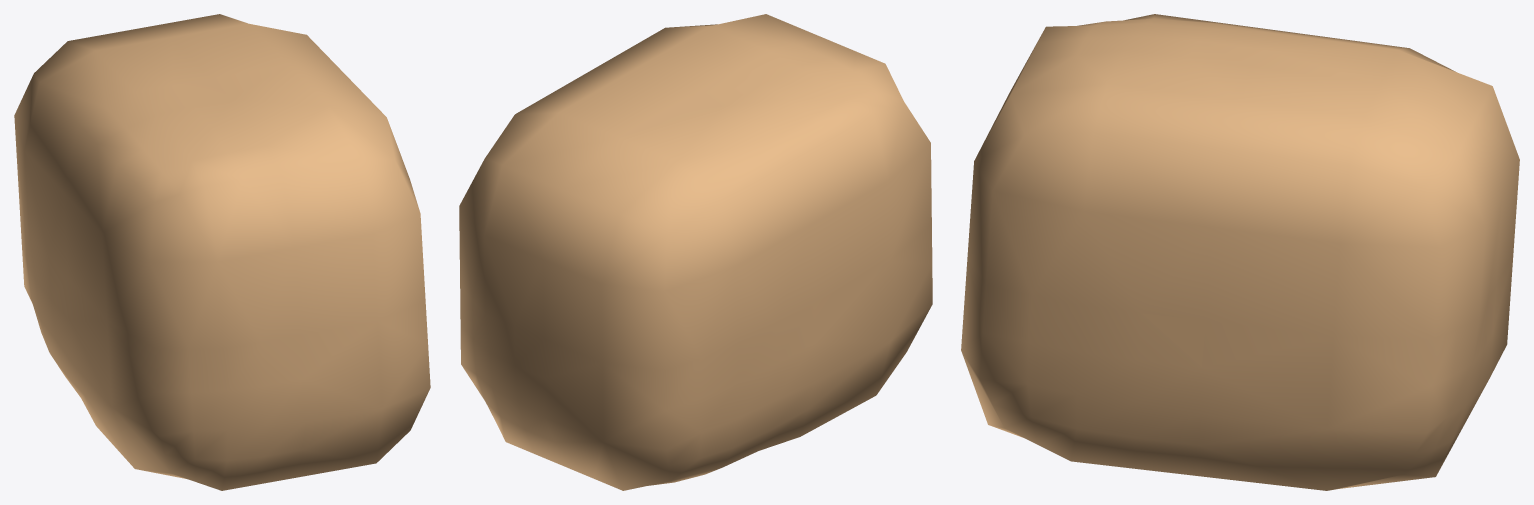
File: ring_02_l.dae
The picture shows the model from 3 angles, left to right: view 1: azimuth 30°, elevation 25°; view 2: azimuth 150°, elevation 25°; view 3: azimuth 270°, elevation 25°; orthographic projection. The views are drawn at different scales.
Parts seen in each view (by area): view 1: skin_geo_ring_02_r; view 2: skin_geo_ring_02_r; view 3: skin_geo_ring_02_r.
Part boxes in pixels (x1,y1,x2,y2): skin_geo_ring_02_r: (14,14,430,490); skin_geo_ring_02_r: (459,14,932,490); skin_geo_ring_02_r: (961,14,1519,490).
Size of the model in its own units: 0.0203 by 0.0283 by 0.0215.
